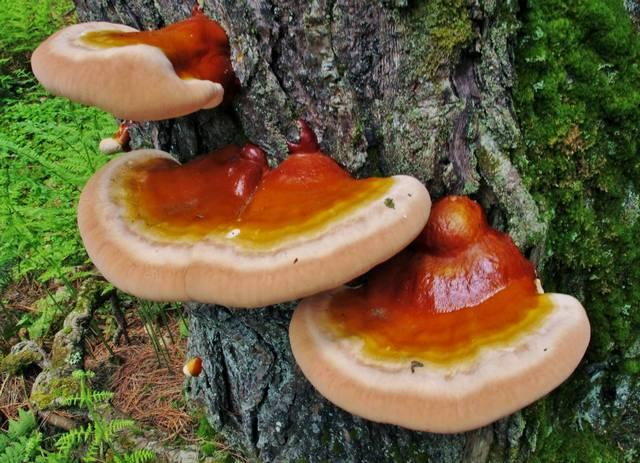Non-edible Mushroom: (287, 193, 591, 434), (75, 127, 433, 309), (29, 7, 237, 123)
